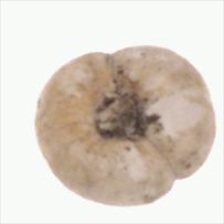L4: (34, 47, 217, 207)
